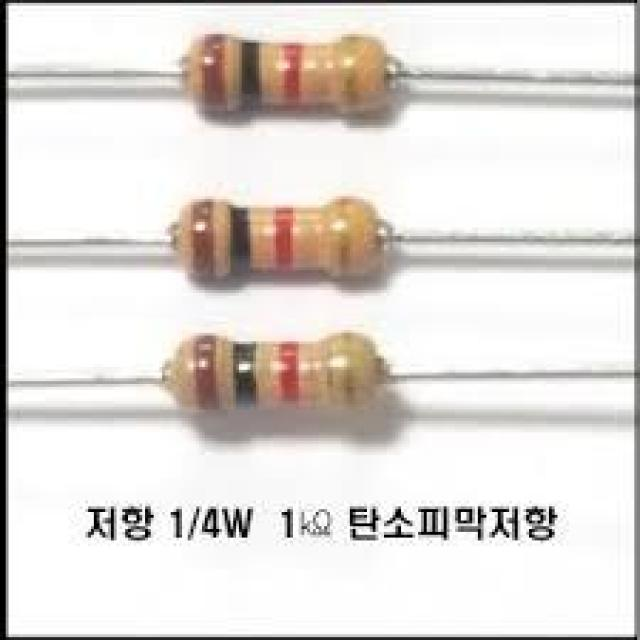Resistor: (172, 196, 391, 282), (185, 34, 398, 121), (165, 331, 388, 408)
